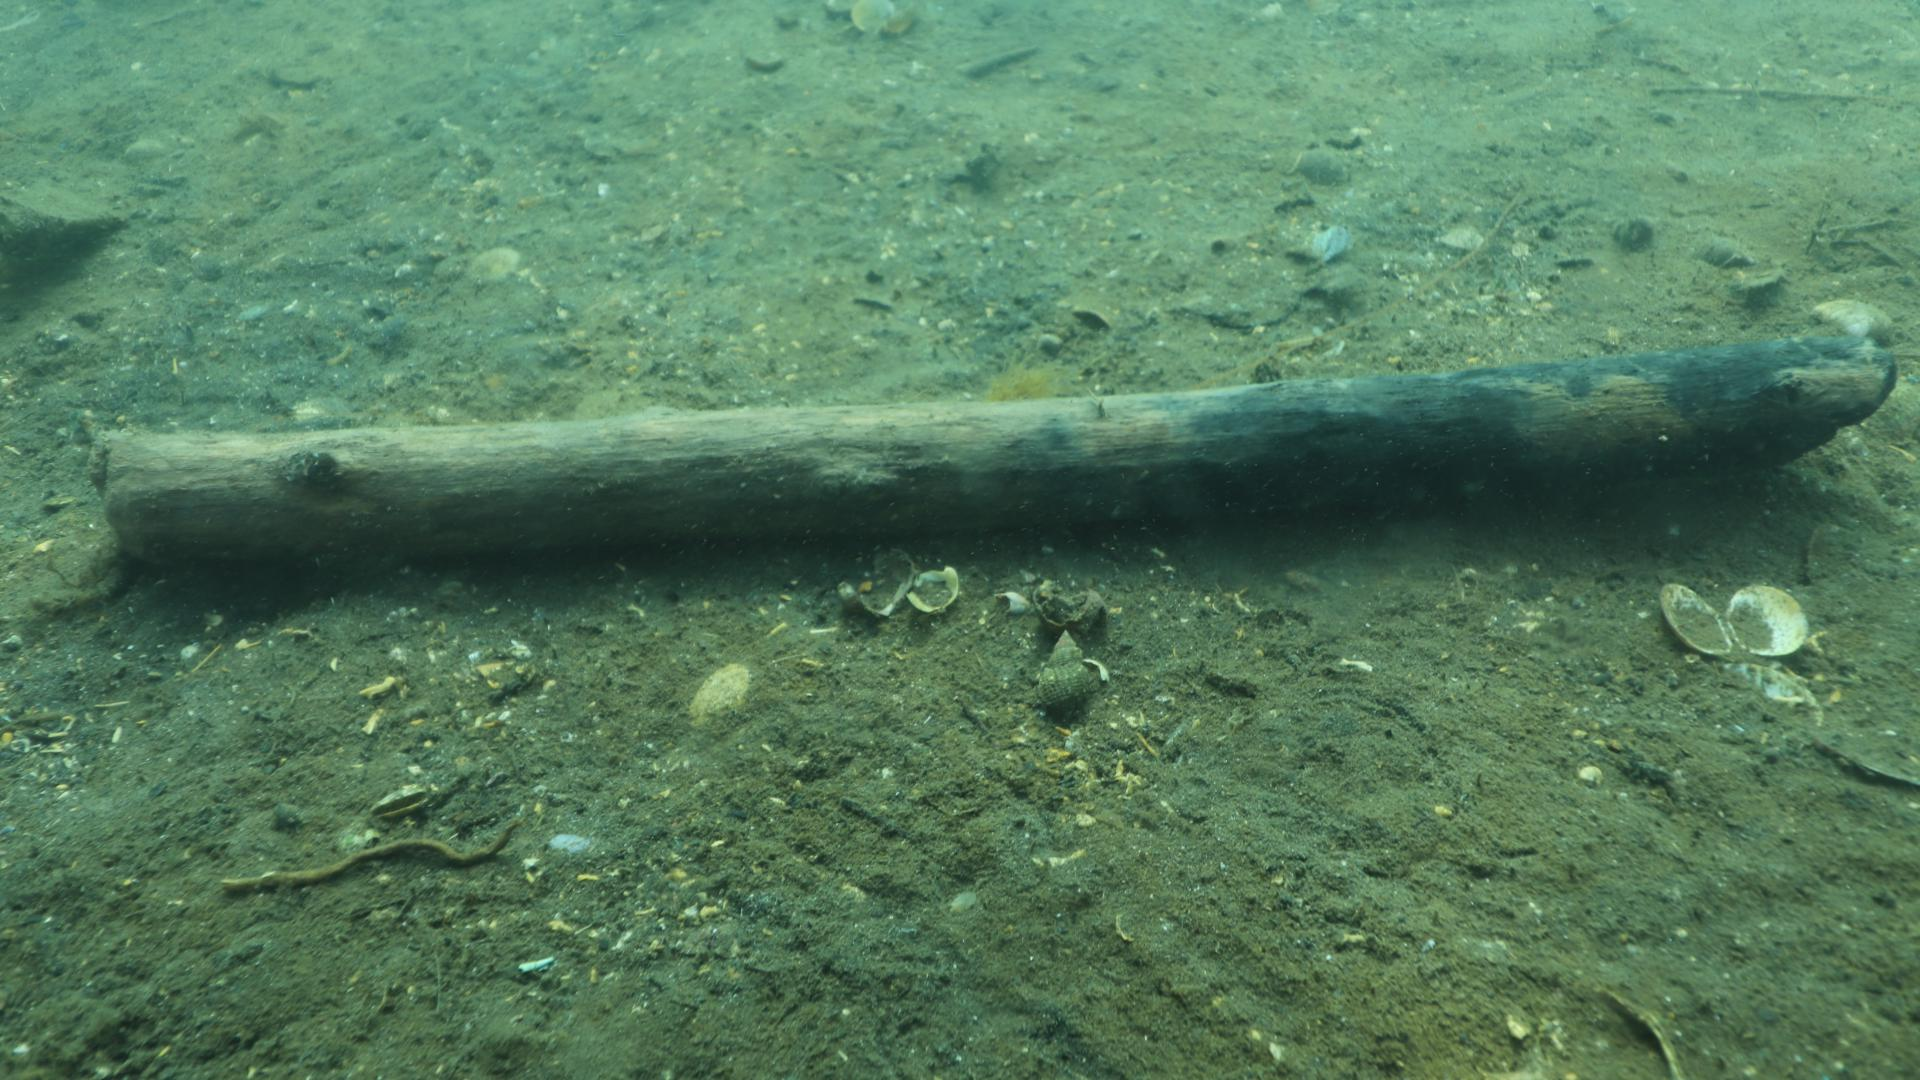wood: (100, 336, 1895, 564)
